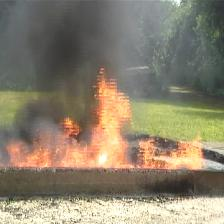fire: (0, 68, 207, 169)
